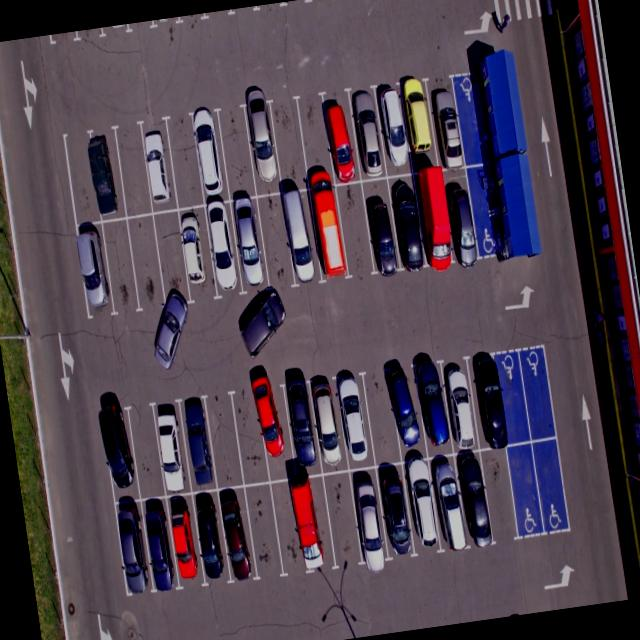car: (288, 472, 338, 576), (254, 377, 301, 481), (332, 368, 378, 468), (82, 125, 128, 223), (96, 403, 140, 505), (228, 195, 274, 292), (174, 204, 218, 304), (216, 488, 260, 586), (411, 168, 455, 266), (200, 201, 244, 299), (282, 378, 325, 478), (370, 461, 414, 558), (72, 221, 115, 320), (305, 375, 348, 474), (277, 188, 321, 284), (151, 400, 194, 498), (398, 459, 442, 554), (140, 118, 183, 215), (358, 175, 401, 272), (385, 363, 427, 462), (438, 358, 481, 454), (180, 394, 222, 492), (348, 468, 390, 566), (192, 486, 233, 586), (307, 184, 350, 278), (242, 100, 284, 196), (164, 494, 206, 590), (413, 360, 454, 458), (402, 78, 444, 172), (190, 110, 231, 206), (388, 172, 429, 268), (321, 90, 362, 184), (454, 448, 494, 544), (375, 81, 416, 174), (347, 88, 387, 182), (429, 452, 468, 548), (472, 354, 511, 450), (140, 496, 179, 590), (444, 165, 480, 264), (112, 502, 151, 592), (432, 76, 468, 170)
free: (319, 468, 366, 572), (152, 208, 196, 310), (126, 214, 170, 314), (228, 386, 271, 487), (296, 91, 340, 187), (254, 192, 298, 288), (100, 216, 142, 316), (203, 391, 246, 488), (360, 367, 402, 466), (164, 114, 207, 210), (242, 482, 284, 580), (114, 123, 157, 218), (126, 404, 168, 501), (217, 106, 260, 200), (332, 182, 375, 276), (481, 445, 522, 541), (532, 438, 574, 531), (64, 126, 103, 226), (515, 345, 556, 440), (270, 476, 308, 577), (504, 442, 544, 536), (268, 102, 308, 194), (495, 352, 532, 448)
